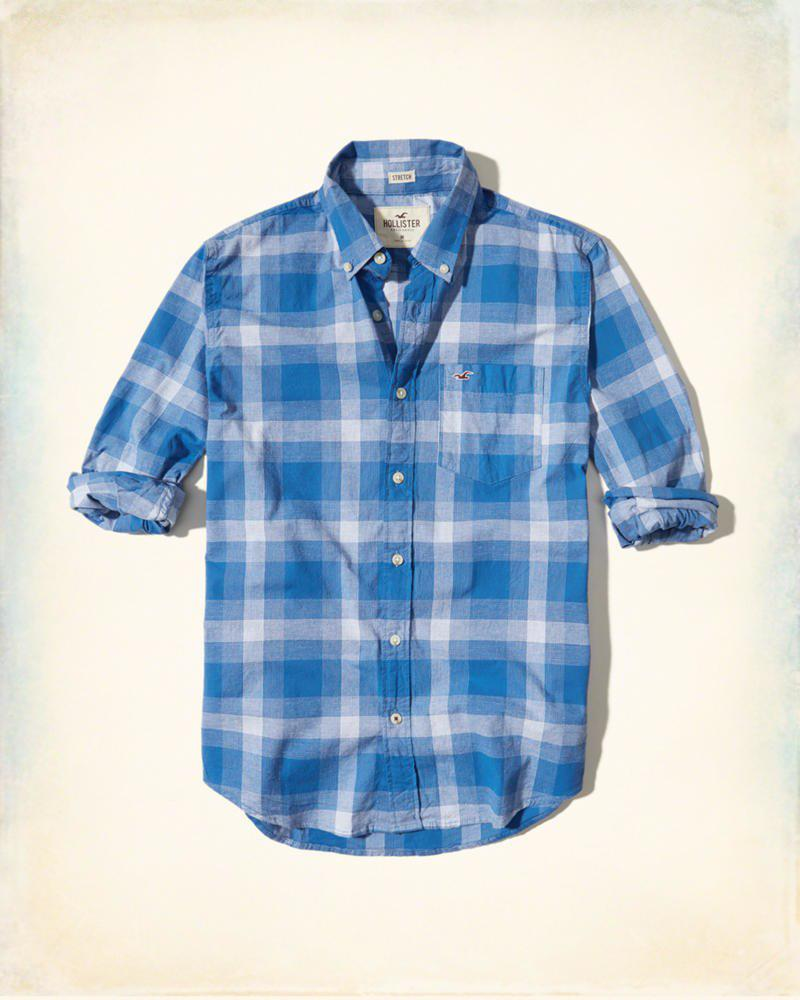teeshirt: (61, 134, 730, 857)
